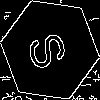S: (25, 25, 77, 74)
